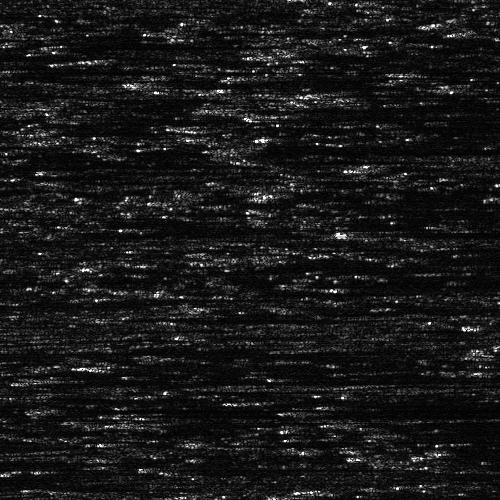object: (0, 39, 99, 48), (324, 227, 397, 238), (199, 101, 240, 118), (178, 144, 251, 153), (265, 89, 358, 96), (112, 409, 153, 420), (335, 165, 408, 170), (194, 397, 267, 402), (151, 124, 224, 129), (383, 68, 446, 73), (472, 254, 500, 265), (442, 321, 495, 326), (129, 497, 202, 500), (258, 111, 279, 120), (409, 365, 420, 374), (47, 378, 68, 381)
shadow: (215, 144, 500, 153), (220, 101, 365, 118), (47, 39, 264, 48), (230, 397, 500, 402), (0, 160, 238, 165), (133, 409, 217, 420), (361, 227, 437, 238), (415, 365, 500, 374), (188, 124, 332, 129), (269, 111, 342, 120), (0, 458, 65, 467), (312, 89, 386, 96), (415, 68, 500, 73), (372, 165, 446, 170), (166, 497, 251, 500), (57, 378, 141, 381), (469, 321, 500, 326)
